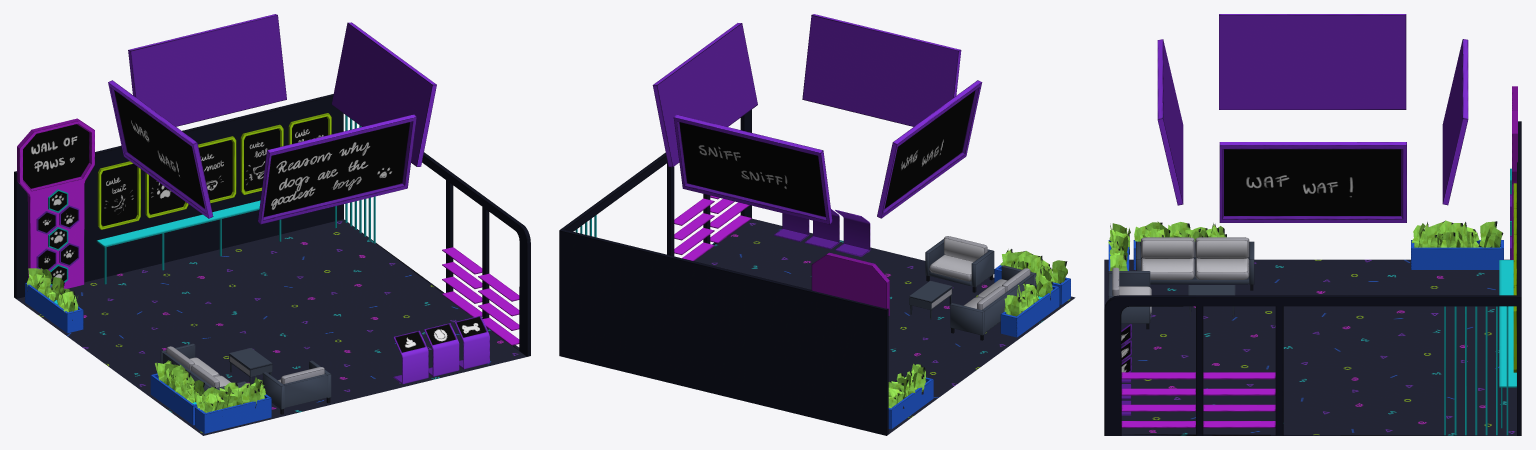
File: kiiba_booth.glb
3 views of the same model, side by side, from view 1: azimuth 30°, elevation 25°; view 2: azimuth 150°, elevation 25°; view 3: azimuth 270°, elevation 25° (orthographic). The views are drawn at different scales.
Visible parts, largest first — view 1: kiiba_template; view 2: kiiba_template; view 3: kiiba_template.
Part boxes in pixels (x1=…): kiiba_template: x1=14, y1=14, x2=530, y2=435; kiiba_template: x1=559, y1=14, x2=1075, y2=435; kiiba_template: x1=1104, y1=14, x2=1521, y2=435.
Bounding box in the file's own units: 8 × 5.7 × 8.
Materials: 1 (1 with a texture image).
